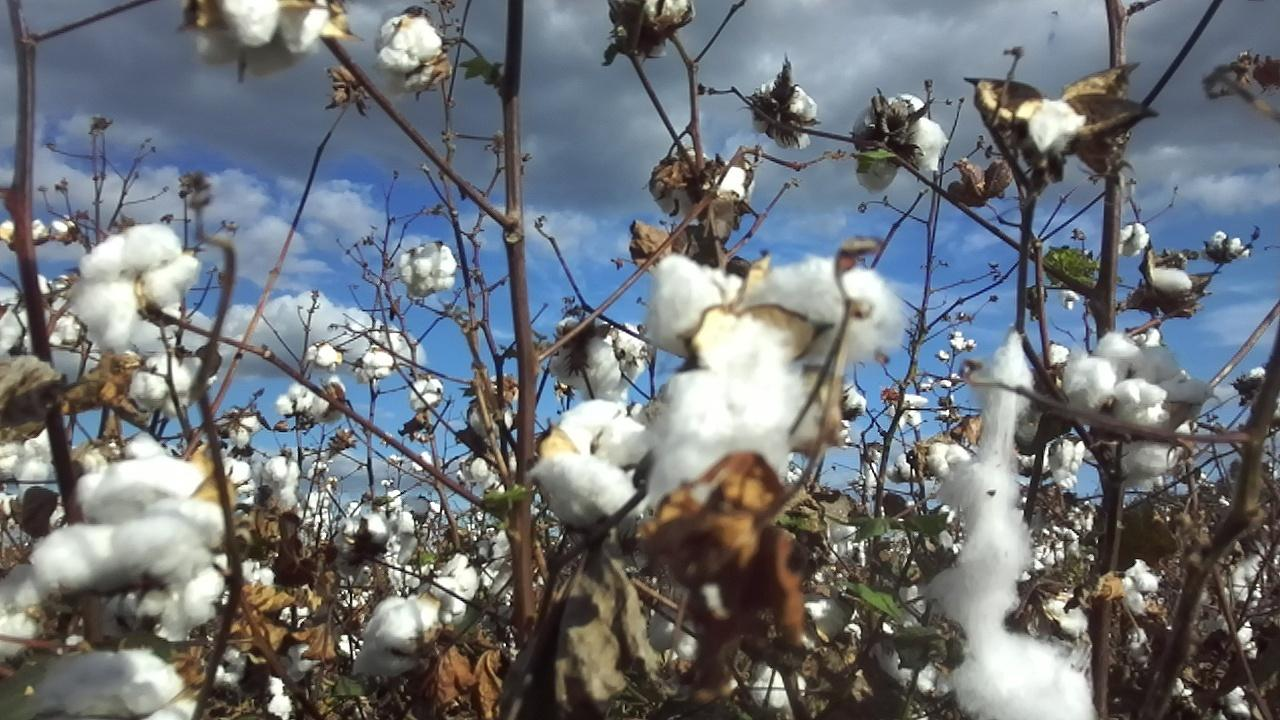cotton_ready: (647, 254, 900, 524), (925, 330, 1092, 720), (1064, 333, 1212, 484), (5, 519, 203, 618), (68, 224, 204, 354), (532, 398, 653, 529), (76, 455, 225, 544), (28, 647, 202, 720), (197, 0, 329, 74), (128, 550, 232, 640), (854, 97, 949, 194), (351, 595, 444, 684), (554, 317, 645, 401), (666, 151, 755, 217), (0, 566, 59, 664), (1014, 98, 1089, 157), (753, 84, 817, 150), (377, 14, 444, 77), (127, 351, 192, 415), (428, 555, 479, 625), (397, 243, 455, 295), (0, 429, 54, 484), (634, 0, 699, 24)
